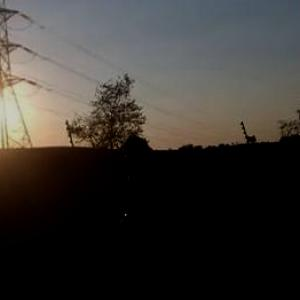follow: (101, 133, 182, 299)
